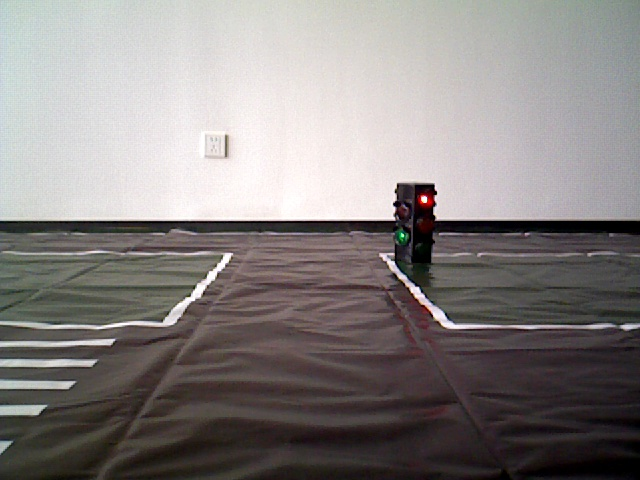red: (397, 185, 433, 264)
